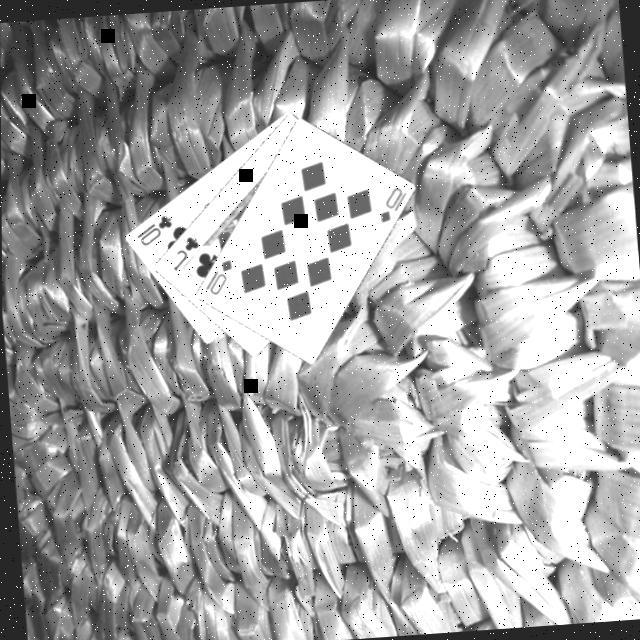10C: (129, 211, 174, 250)
10D: (196, 256, 234, 300), (371, 185, 409, 227)
JC: (164, 233, 201, 275)
